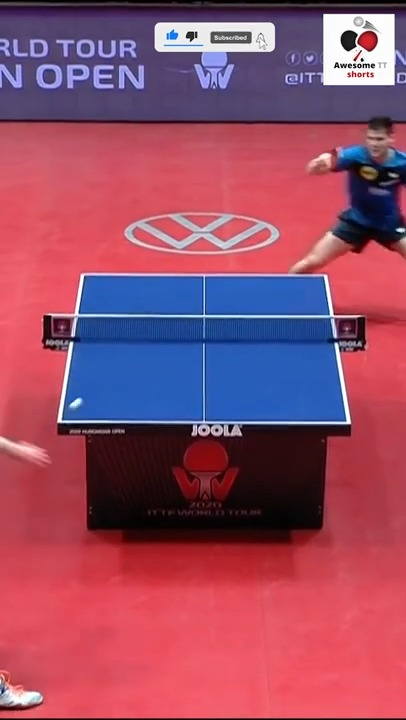Ball: (68, 397, 84, 412)
